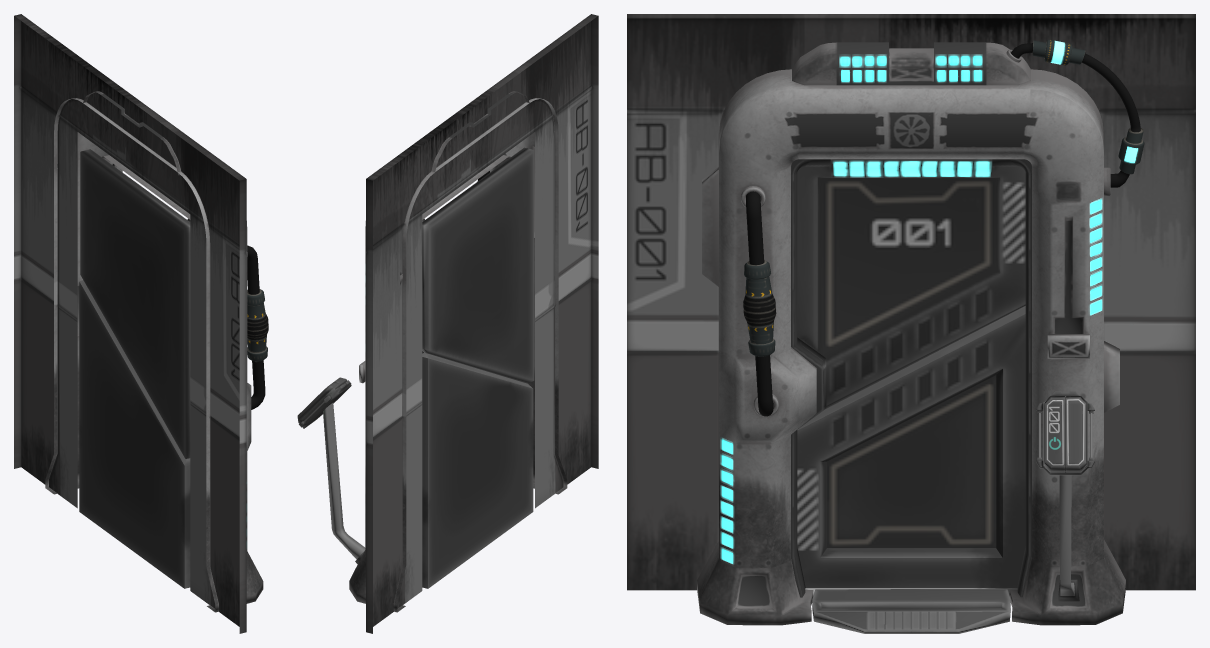
File: Sas (Airlock : Door Panel).glb
3 views of the same model, side by side, from view 1: azimuth 30°, elevation 25°; view 2: azimuth 150°, elevation 25°; view 3: azimuth 270°, elevation 25° (orthographic). The views are drawn at different scales.
Visible parts, largest first — view 1: Object_2; view 2: Object_2; view 3: Object_2.
Part boxes in pixels (x1,y1,x2,y2): Object_2: (14, 14, 268, 633); Object_2: (297, 14, 598, 633); Object_2: (627, 14, 1195, 633).
Size of the model in its own units: 71.57 by 255 by 229.
1 material, 1 textured.
